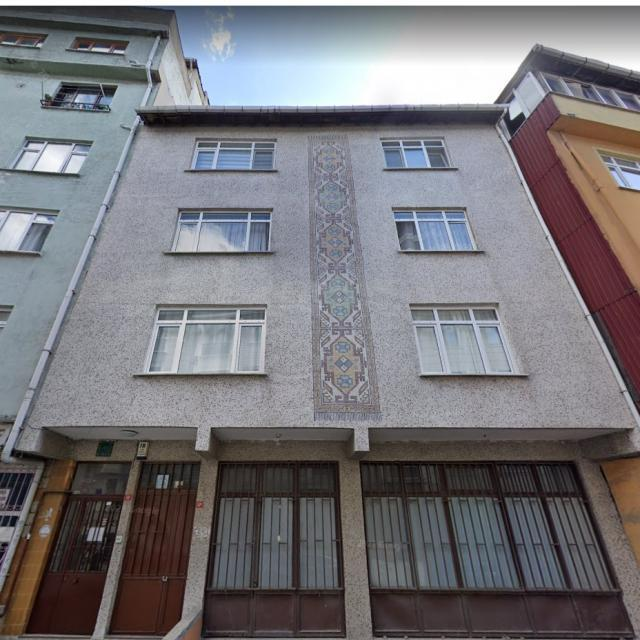Building: (0, 105, 640, 640)
